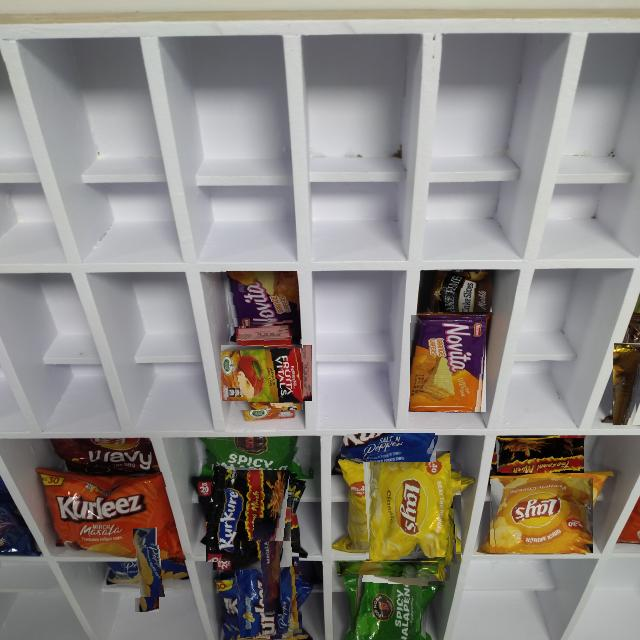Plastic: (351, 462, 461, 570), (44, 472, 172, 556), (205, 470, 298, 563), (489, 478, 593, 553), (410, 314, 486, 412), (351, 567, 429, 640), (230, 336, 304, 410), (225, 571, 302, 640), (202, 437, 311, 476), (226, 272, 297, 328), (240, 541, 299, 600), (50, 439, 150, 471), (495, 438, 584, 473), (419, 270, 492, 312), (120, 545, 173, 598), (341, 433, 436, 462), (613, 342, 640, 425), (338, 561, 438, 574)
